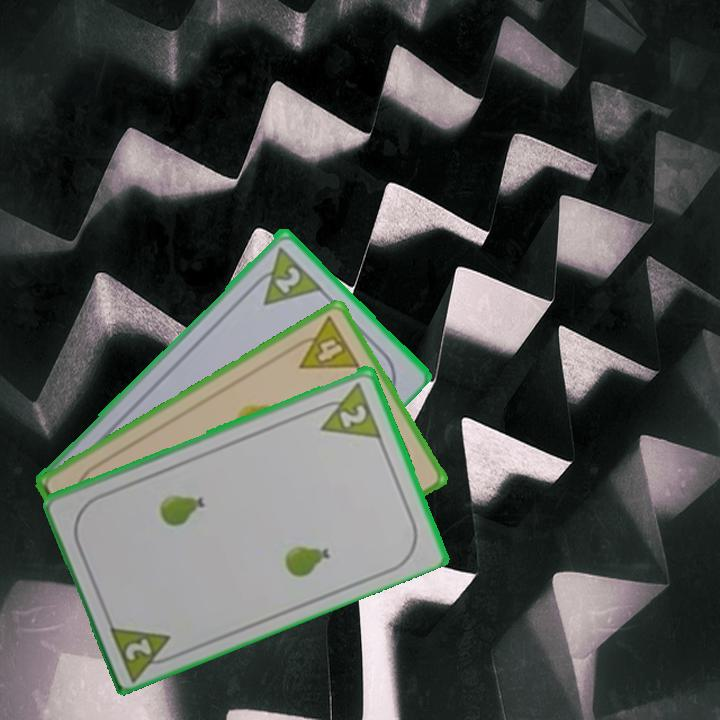2p: (245, 242, 324, 309), (310, 378, 385, 441), (121, 634, 156, 663)
4p: (285, 313, 363, 372)
